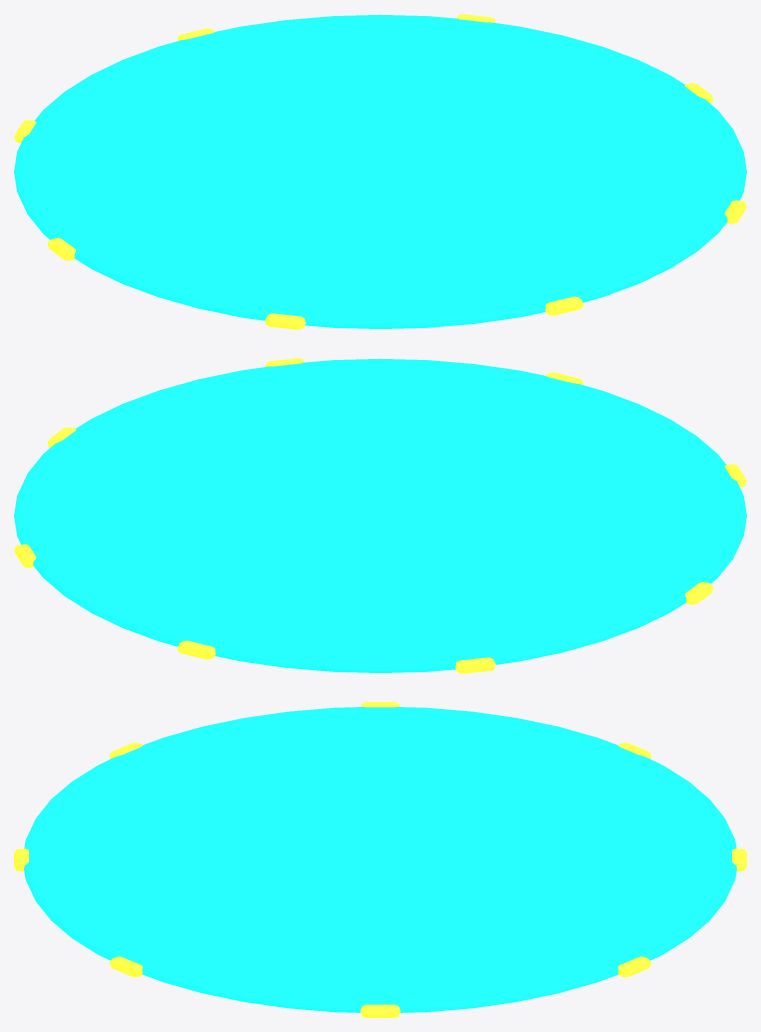
Rendered from holo_focus_rings.glb.
3 views of the same model, one above another, from view 1: azimuth 30°, elevation 25°; view 2: azimuth 150°, elevation 25°; view 3: azimuth 270°, elevation 25° (orthographic). The views are drawn at different scales.
Visible parts, largest first — view 1: Ring_Inner, OuterMarker_0; view 2: Ring_Inner, OuterMarker_0; view 3: Ring_Inner, OuterMarker_0.
Part boxes in pixels (left/top/right/bottom): Ring_Inner: left=14, top=14, right=746, bottom=328; OuterMarker_0: left=14, top=14, right=746, bottom=329; Ring_Inner: left=14, top=358, right=746, bottom=672; OuterMarker_0: left=14, top=358, right=746, bottom=673; Ring_Inner: left=24, top=707, right=736, bottom=1012; OuterMarker_0: left=14, top=702, right=746, bottom=1017.
Bounding box in the file's own units: 2.56 × 0.14 × 2.56.
